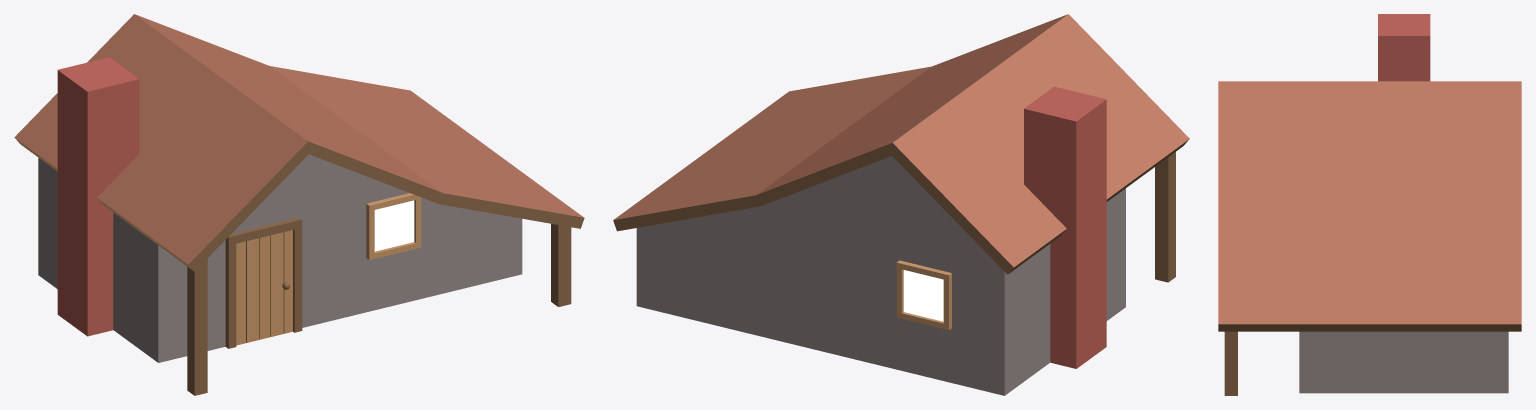
File: SM_House_03.fbx
3 views of the same model, side by side, from view 1: azimuth 30°, elevation 25°; view 2: azimuth 150°, elevation 25°; view 3: azimuth 270°, elevation 25° (orthographic). The views are drawn at different scales.
Parts seen in each view (by area): view 1: SM_House_03, DoorFlat_01.002, WindowSmall_01.006; view 2: SM_House_03, WindowSmall_01.007; view 3: SM_House_03.
Boxes of the visible parts, x1,y1,x2,y2 form: SM_House_03: [14, 14, 584, 395]; DoorFlat_01.002: [225, 217, 302, 348]; WindowSmall_01.006: [366, 193, 421, 259]; SM_House_03: [613, 14, 1189, 395]; WindowSmall_01.007: [896, 260, 951, 330]; SM_House_03: [1218, 14, 1521, 395].
Size of the model in its own units: 781 by 450 by 580.
